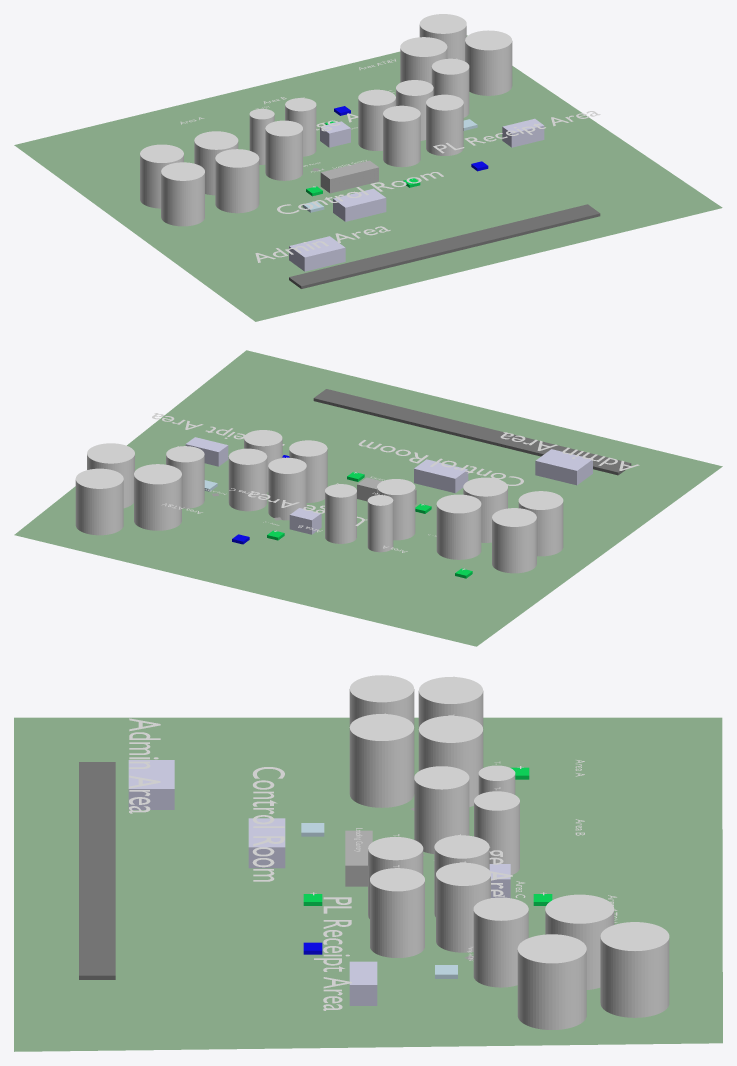
File: BOST.glb
3 renders of one model, top to bottom at view 1: azimuth 30°, elevation 25°; view 2: azimuth 150°, elevation 25°; view 3: azimuth 270°, elevation 25°, orthographic. The views are drawn at different scales.
Parts seen in each view (by area): view 1: Plane, ACCRA - TEMA HIGHWAY, TANK_5803, TANK_124, TANK_122, TANK_143, TANK_103, TANK_144, TANK_5801, TANK_121, TANK_141, TANK_5804 (+13 smaller); view 2: Plane, ACCRA - TEMA HIGHWAY, TANK_5802, TANK_5801, TANK_123, TANK_121, TANK_142, TANK_141, TANK_122, TANK_102, TANK_5804, TANK_5803 (+11 smaller); view 3: Plane, ACCRA - TEMA HIGHWAY, TANK_5803, TANK_5802, TANK_124, TANK_144, TANK_5804, TANK_103, TANK_142, TANK_123, TANK_5801, TANK_102 (+12 smaller).
Part boxes in pixels (left/top/right/bottom): Plane: left=14, top=35, right=722, bottom=321; ACCRA - TEMA HIGHWAY: left=289, top=204, right=600, bottom=288; TANK_5803: left=465, top=30, right=512, bottom=95; TANK_124: left=215, top=149, right=259, bottom=213; TANK_122: left=161, top=162, right=204, bottom=226; TANK_143: left=383, top=105, right=420, bottom=167; TANK_103: left=265, top=120, right=302, bottom=180; TANK_144: left=426, top=94, right=463, bottom=155; TANK_5801: left=400, top=37, right=447, bottom=83; TANK_121: left=140, top=144, right=183, bottom=208; TANK_141: left=358, top=89, right=395, bottom=150; TANK_5804: left=431, top=58, right=469, bottom=117; Plane: left=14, top=350, right=722, bottom=646; ACCRA - TEMA HIGHWAY: left=313, top=389, right=631, bottom=475; TANK_5802: left=75, top=468, right=123, bottom=535; TANK_5801: left=134, top=464, right=181, bottom=530; TANK_123: left=436, top=494, right=481, bottom=559; TANK_121: left=492, top=508, right=536, bottom=573; TANK_142: left=228, top=448, right=267, bottom=511; TANK_141: left=268, top=457, right=306, bottom=520; TANK_122: left=518, top=491, right=563, bottom=556; TANK_102: left=325, top=484, right=356, bottom=543; TANK_5804: left=166, top=446, right=204, bottom=508; TANK_5803: left=87, top=443, right=134, bottom=508; Plane: left=14, top=717, right=722, bottom=1051; ACCRA - TEMA HIGHWAY: left=79, top=762, right=115, bottom=979; TANK_5803: left=517, top=934, right=586, bottom=1029; TANK_5802: left=600, top=922, right=669, bottom=1017; TANK_124: left=349, top=714, right=414, bottom=807; TANK_144: left=370, top=868, right=424, bottom=957; TANK_5804: left=473, top=897, right=528, bottom=987; TANK_103: left=414, top=766, right=469, bottom=853; TANK_142: left=436, top=862, right=490, bottom=952; TANK_123: left=418, top=715, right=483, bottom=806; TANK_5801: left=545, top=894, right=614, bottom=989; TANK_102: left=474, top=791, right=519, bottom=874.
Size of the model in its own units: 172 by 18.51 by 154.
